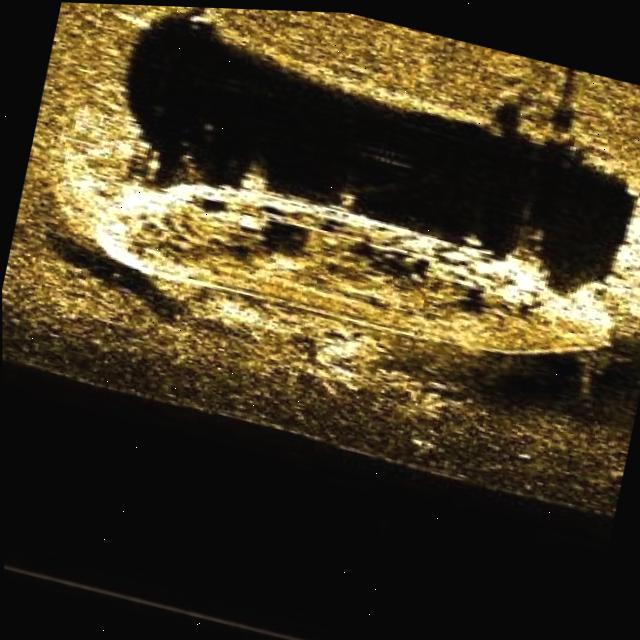shipwreck: (87, 144, 628, 388)
